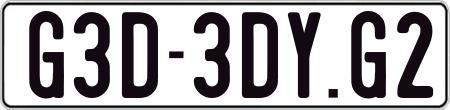2: (395, 12, 435, 102)
3: (194, 12, 235, 102), (71, 12, 107, 101)
D: (239, 10, 279, 98), (121, 12, 158, 103)
G: (29, 10, 69, 99), (350, 11, 388, 101)
Y: (287, 12, 326, 99)
